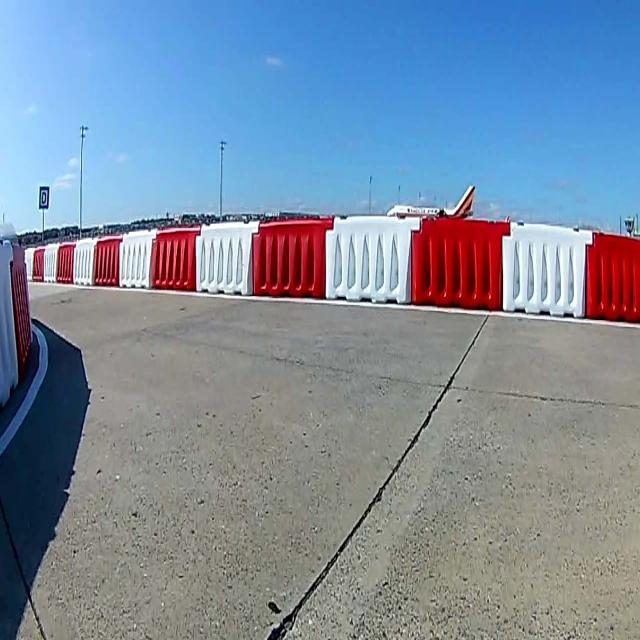durak: (38, 186, 48, 209)
